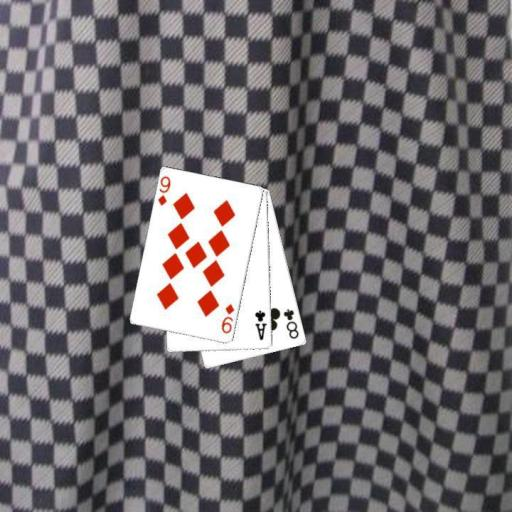card-corner: (280, 306, 301, 340), (218, 300, 236, 336), (155, 172, 172, 208), (253, 308, 268, 341)
